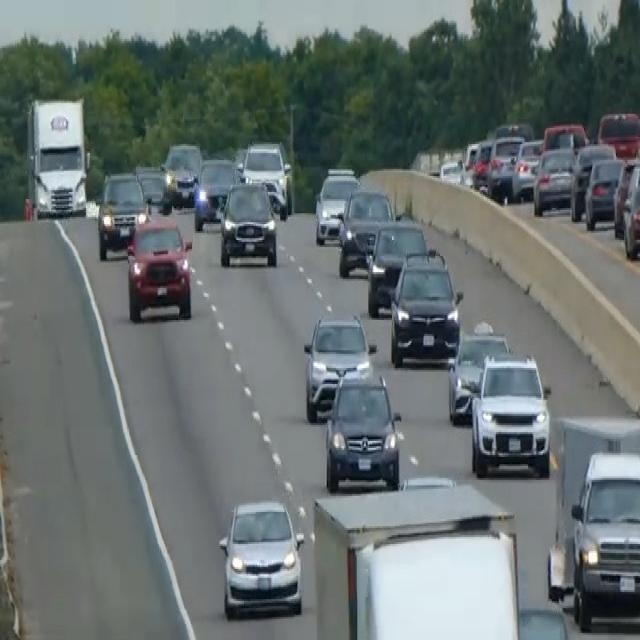car: (217, 494, 305, 619), (470, 350, 551, 478), (323, 368, 402, 491), (388, 247, 462, 366), (302, 309, 375, 422), (125, 213, 193, 322), (447, 320, 510, 425), (365, 218, 427, 316), (218, 178, 278, 268), (337, 185, 394, 275), (96, 169, 149, 259), (240, 137, 292, 217), (569, 140, 615, 220), (193, 155, 240, 231), (314, 167, 359, 245), (532, 144, 576, 215), (583, 155, 623, 229), (162, 140, 202, 207), (486, 132, 524, 198), (596, 108, 639, 158), (134, 162, 173, 213), (512, 137, 543, 199), (622, 160, 639, 260), (541, 121, 588, 156), (470, 137, 493, 190), (438, 155, 464, 185)
lorry: (25, 92, 91, 220)
truck: (569, 446, 639, 631)
